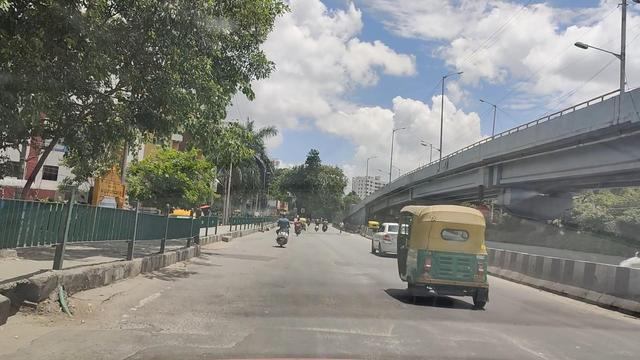LMV: (417, 213, 503, 314)
RoadDamages: (284, 314, 396, 347), (144, 314, 239, 351), (471, 336, 564, 358)
